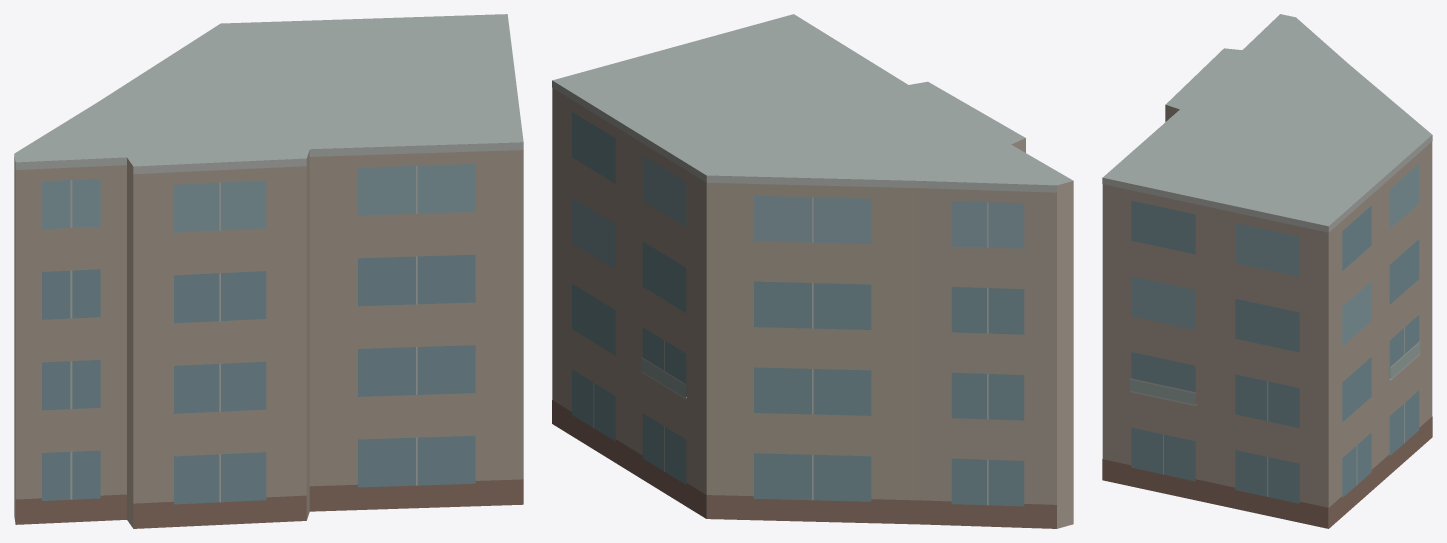
The model's file is survey-upis-32633837.glb.
3 views of the same model, side by side, from view 1: azimuth 30°, elevation 25°; view 2: azimuth 150°, elevation 25°; view 3: azimuth 270°, elevation 25° (orthographic). The views are drawn at different scales.
Parts seen in each view (by area): view 1: survey-upis-32633837.tmp; view 2: survey-upis-32633837.tmp; view 3: survey-upis-32633837.tmp.
Part boxes in pixels (x1=…): survey-upis-32633837.tmp: x1=14, y1=14, x2=523, y2=528; survey-upis-32633837.tmp: x1=552, y1=14, x2=1073, y2=528; survey-upis-32633837.tmp: x1=1102, y1=14, x2=1432, y2=528.
Bounding box in the file's own units: 17.32 × 11.5 × 11.38.
